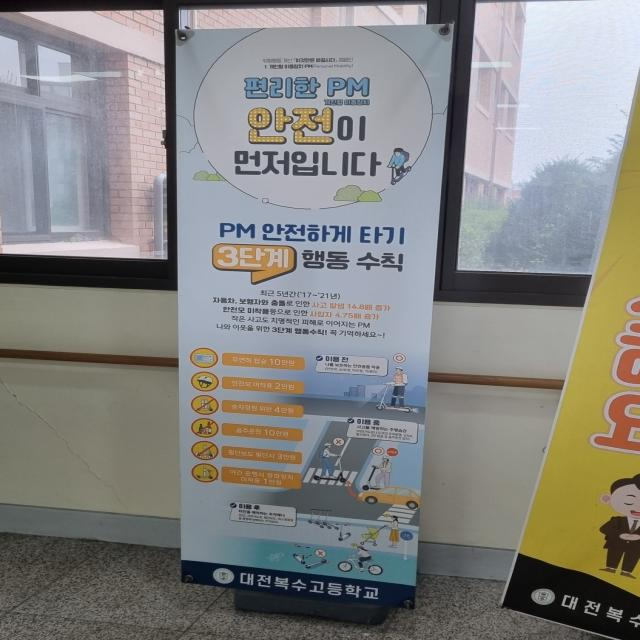logo: (528, 586, 558, 608), (208, 567, 238, 587)
